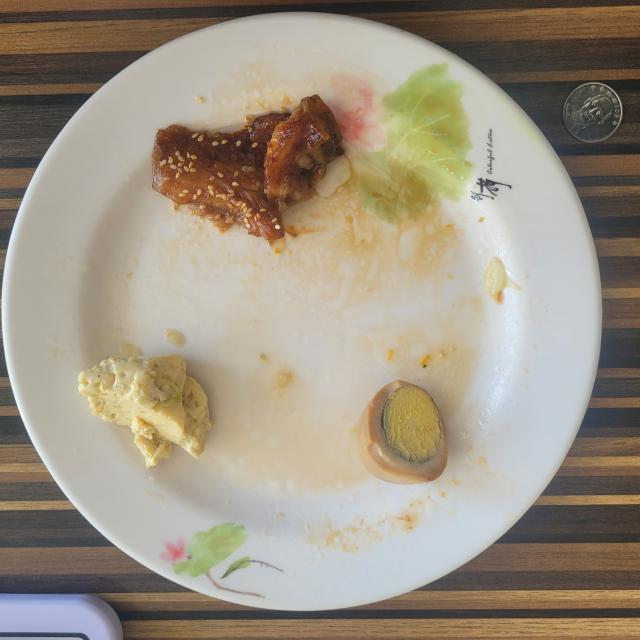Kabayaki sea bream fillet: (152, 95, 344, 240)
coin: (564, 82, 622, 142)
soy egg: (358, 380, 448, 484)
